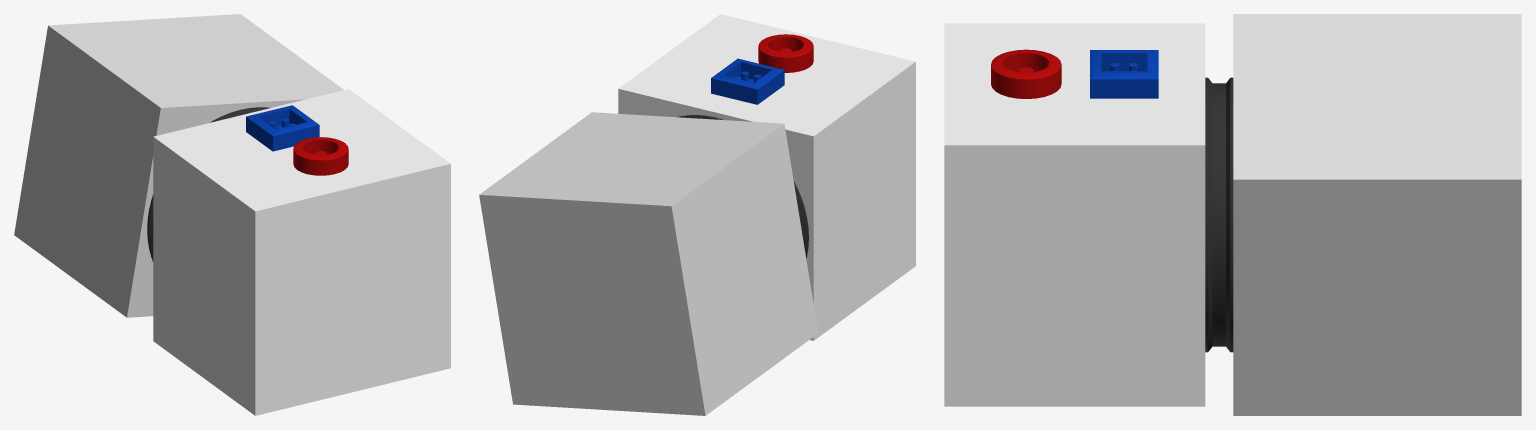
The model's file is SmallPivot.gltf.
3 views of the same model, side by side, from view 1: azimuth 30°, elevation 25°; view 2: azimuth 150°, elevation 25°; view 3: azimuth 270°, elevation 25° (orthographic). The views are drawn at different scales.
Visible parts, largest first — view 1: master, slave; view 2: slave, master; view 3: slave, master.
Part boxes in pixels (x1,y1,x2,y2): master: (147,89,450,415); slave: (14,14,343,317); slave: (479,112,818,415); master: (618,14,915,340); slave: (1233,14,1521,415); master: (944,23,1233,406).
Size of the model in its own units: 0.2896 by 0.2905 by 0.5003.
